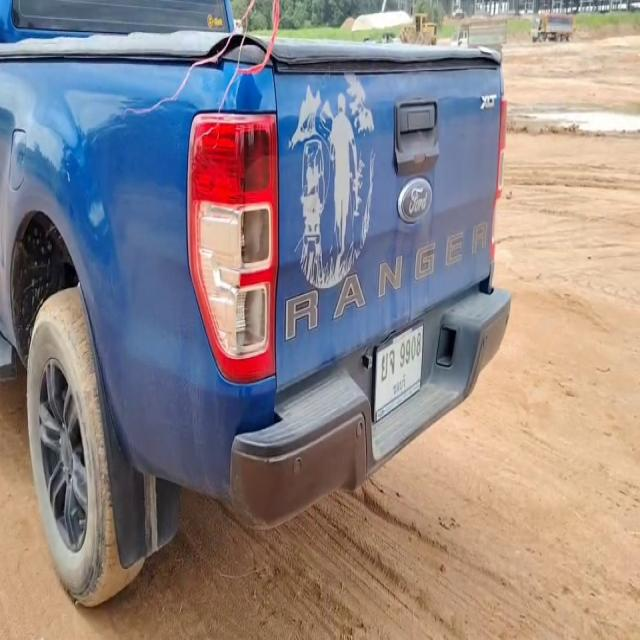Digit: (400, 330, 422, 370)
Licenseplate: (373, 319, 425, 423)
Provincename: (391, 373, 408, 394)
Thaichar: (379, 345, 396, 382)
